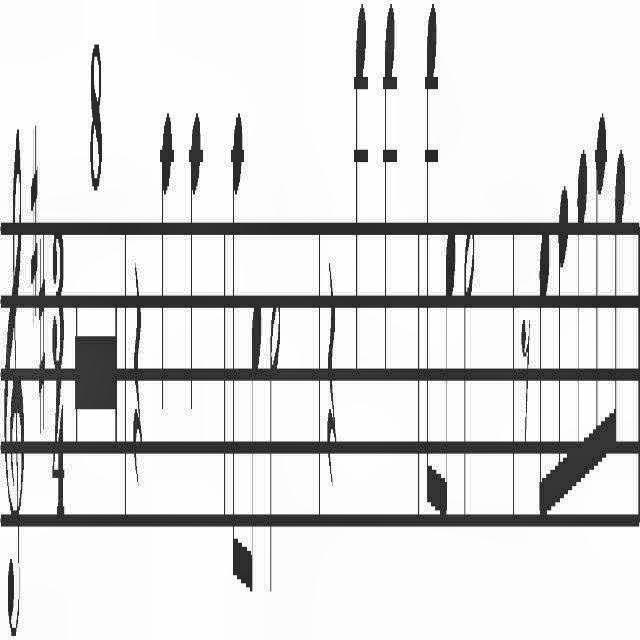Bass-clef: (7, 112, 26, 640)
Diez: (28, 98, 40, 356), (38, 216, 46, 437)
Eighth-note: (420, 1, 440, 580), (226, 102, 246, 634), (594, 90, 610, 530), (247, 243, 265, 633), (442, 198, 458, 594), (554, 163, 570, 549), (535, 208, 551, 568), (574, 144, 588, 542), (613, 144, 625, 503)
Eighth-rest: (520, 266, 532, 514)
Half-note: (460, 186, 476, 568), (267, 266, 283, 608)
Quarter-note: (346, 0, 369, 454), (380, 1, 400, 403), (185, 95, 207, 452), (157, 84, 177, 468)
Quarter-rest: (129, 244, 147, 500), (324, 239, 338, 517)
